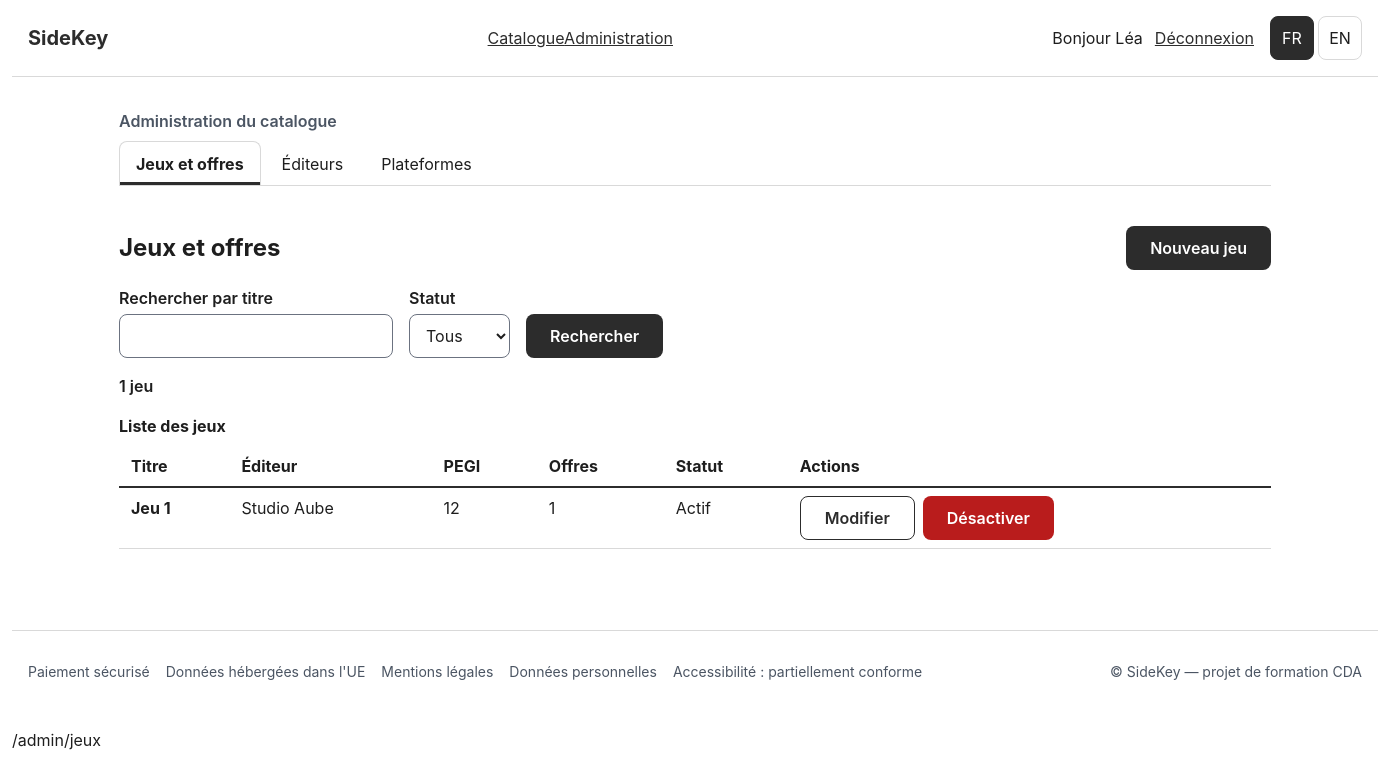
Test: écran E12 — liste des jeux (US-50) › affiche l’erreur de l’API quand la désactivation échoue
Expected: the table is shown, [119,414,1271,549]
Click the button with aria-label "Désactiver Jeu 1": (988, 518) [923,496,1054,540]
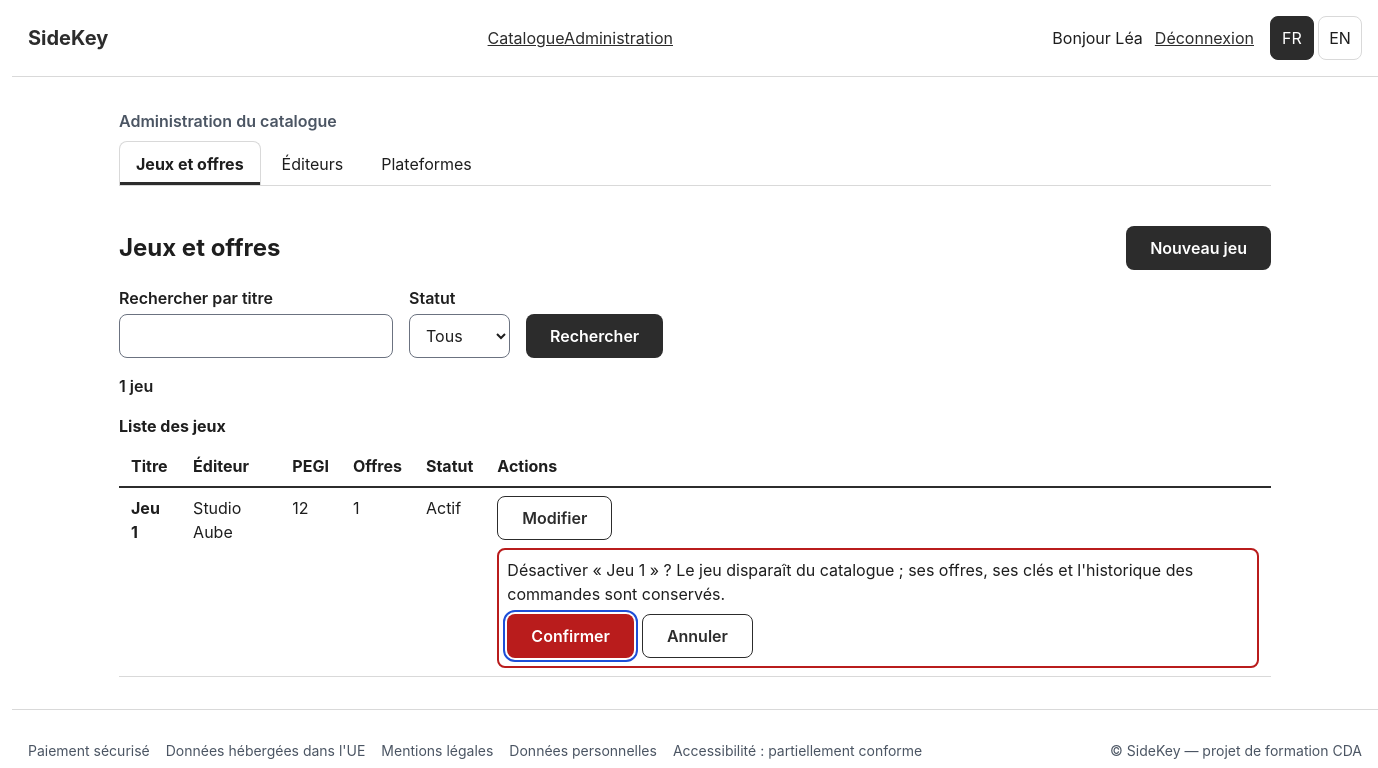
Click the button "Confirmer": (571, 636) [507,614,634,658]
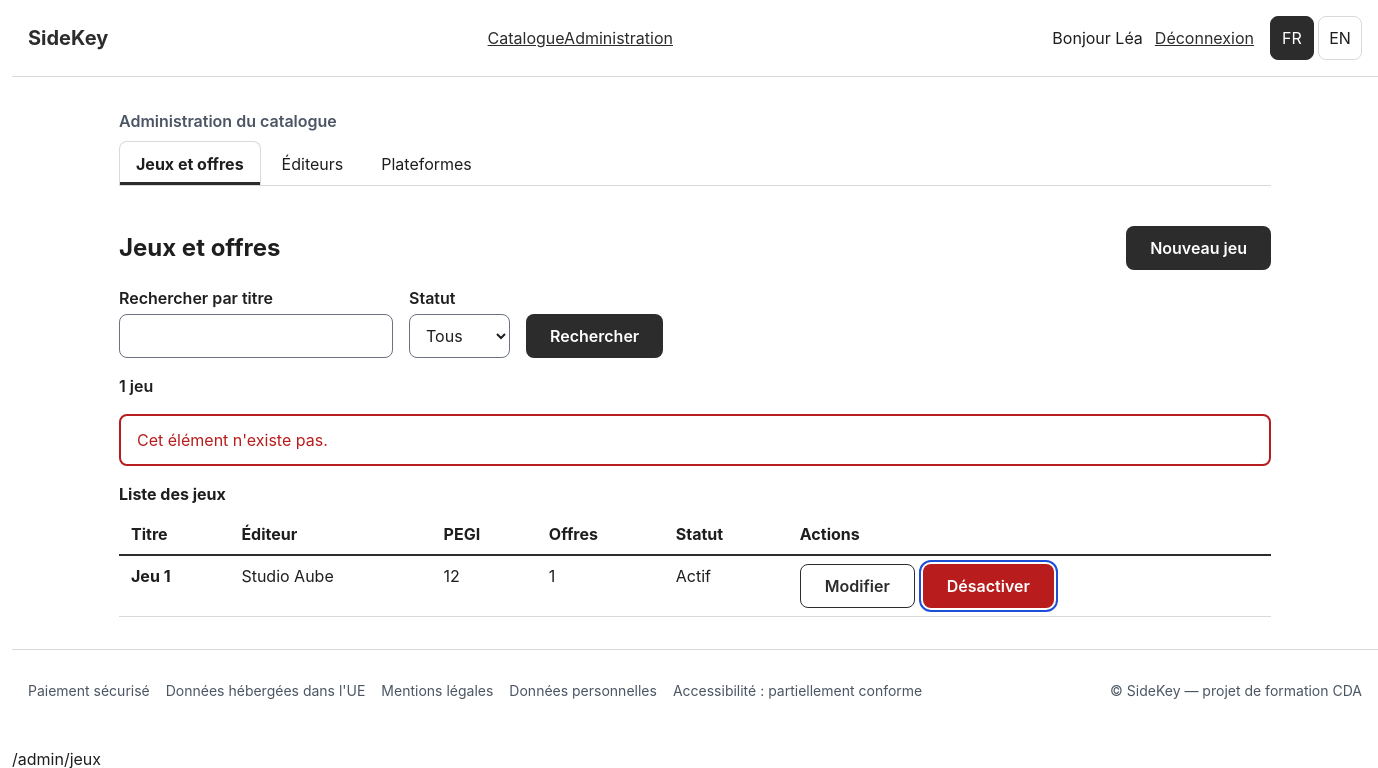
Expected: the text "Cet élément n'existe pas." is shown, [119,414,1271,466]
